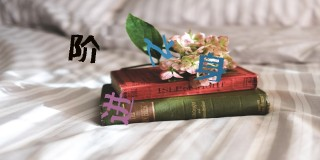之: (144, 32, 174, 67)
身: (194, 49, 224, 85)
进: (99, 90, 136, 127)
阶: (67, 33, 99, 63)
